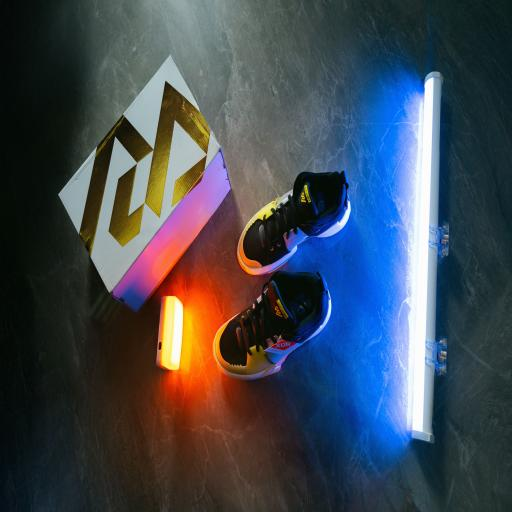shoe: (214, 271, 331, 380), (238, 172, 350, 274)
